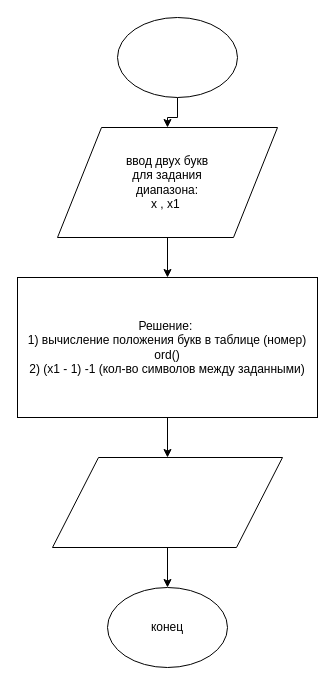
Image size: 335x685. Some labels were removed from this diagram. Here are the shapes that lost their labels. From the top down, the centre of each, then its label:
pixel 177 57: Начало
pixel 167 502: вывод: х и х1 (номера) вывод: результат
